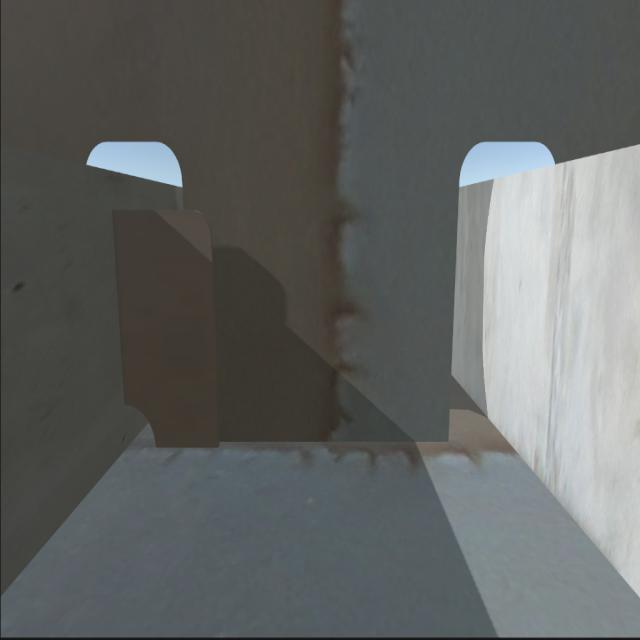fillet_hole: (119, 399, 159, 454)
fillet_yong_jeop_jang: (158, 440, 455, 456)
longi_yong_jeop_jang: (102, 202, 132, 398)
plate_CP05: (116, 207, 220, 452)
